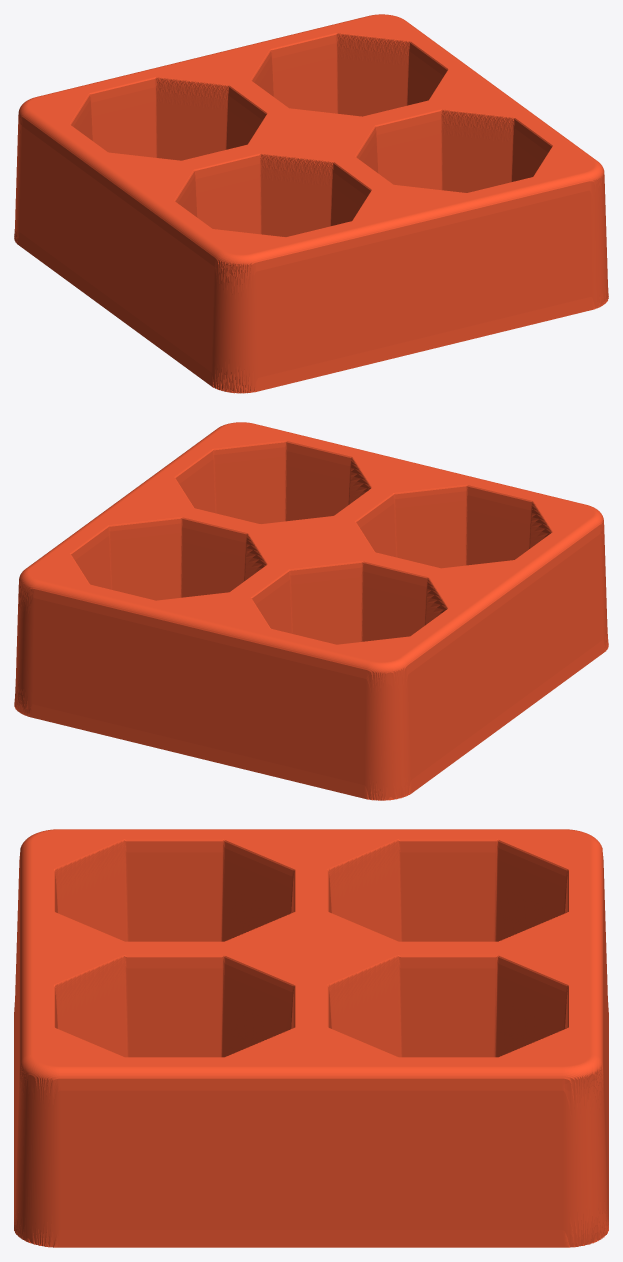
The model's file is mold.glb.
3 renders of one model, top to bottom at view 1: azimuth 30°, elevation 25°; view 2: azimuth 150°, elevation 25°; view 3: azimuth 270°, elevation 25°, orthographic. The views are drawn at different scales.
Parts seen in each view (by area): view 1: geometry_0; view 2: geometry_0; view 3: geometry_0.
Part boxes in pixels (x1,y1,x2,y2): geometry_0: [14, 14, 608, 393]; geometry_0: [14, 422, 608, 800]; geometry_0: [14, 829, 608, 1247].
Size of the model in its own units: 0.1172 by 0.0377 by 0.1172.
